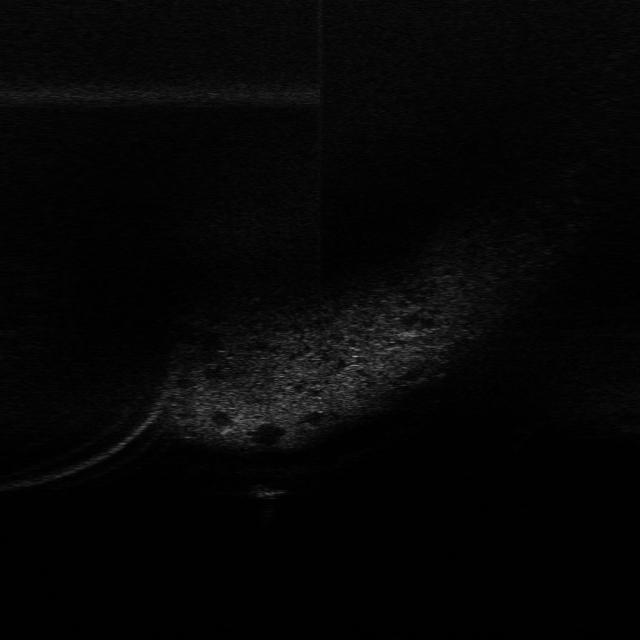cube: (243, 479, 294, 501)
